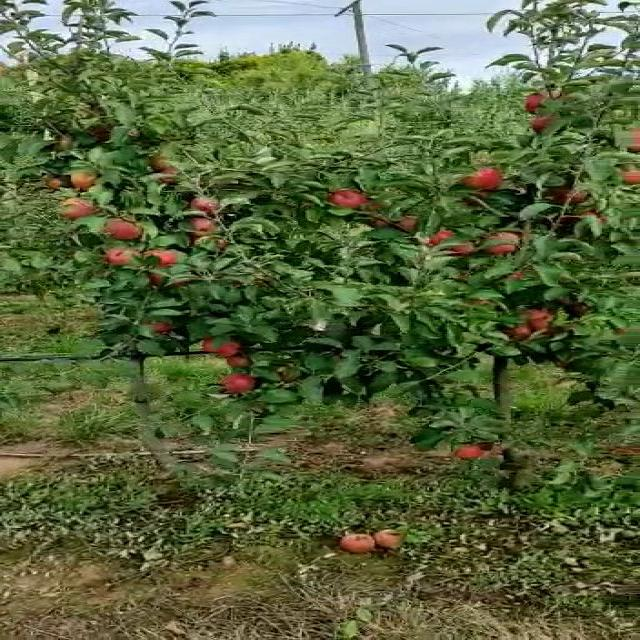100-_ripeness: (102, 214, 153, 242), (51, 196, 105, 222), (178, 214, 233, 239), (522, 84, 565, 115), (329, 184, 380, 210), (215, 374, 267, 398), (509, 309, 553, 336), (198, 331, 247, 355), (100, 246, 145, 271), (435, 228, 478, 253), (533, 112, 576, 137), (460, 166, 504, 190), (484, 230, 518, 256), (144, 250, 180, 274), (448, 441, 488, 460), (71, 169, 104, 190), (609, 167, 640, 188), (193, 195, 227, 214), (225, 353, 262, 367)
